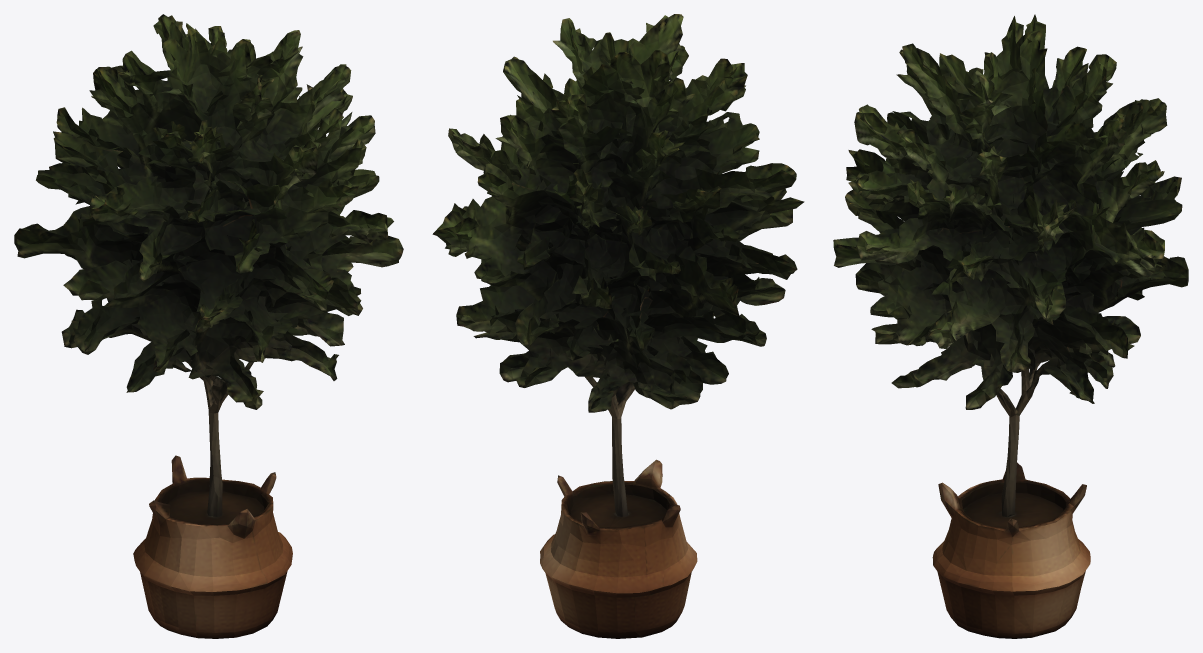
Rendered from plant_01.glb.
The picture shows the model from 3 angles, left to right: view 1: azimuth 30°, elevation 25°; view 2: azimuth 150°, elevation 25°; view 3: azimuth 270°, elevation 25°; orthographic projection.
Visible parts, largest first — view 1: geometry_0; view 2: geometry_0; view 3: geometry_0.
Boxes of the visible parts, x1=… form: geometry_0: x1=14, y1=14, x2=403, y2=638; geometry_0: x1=432, y1=14, x2=804, y2=638; geometry_0: x1=833, y1=14, x2=1188, y2=638.
Size of the model in its own units: 1.39 by 2.4 by 1.34.
1 material, 1 textured.
